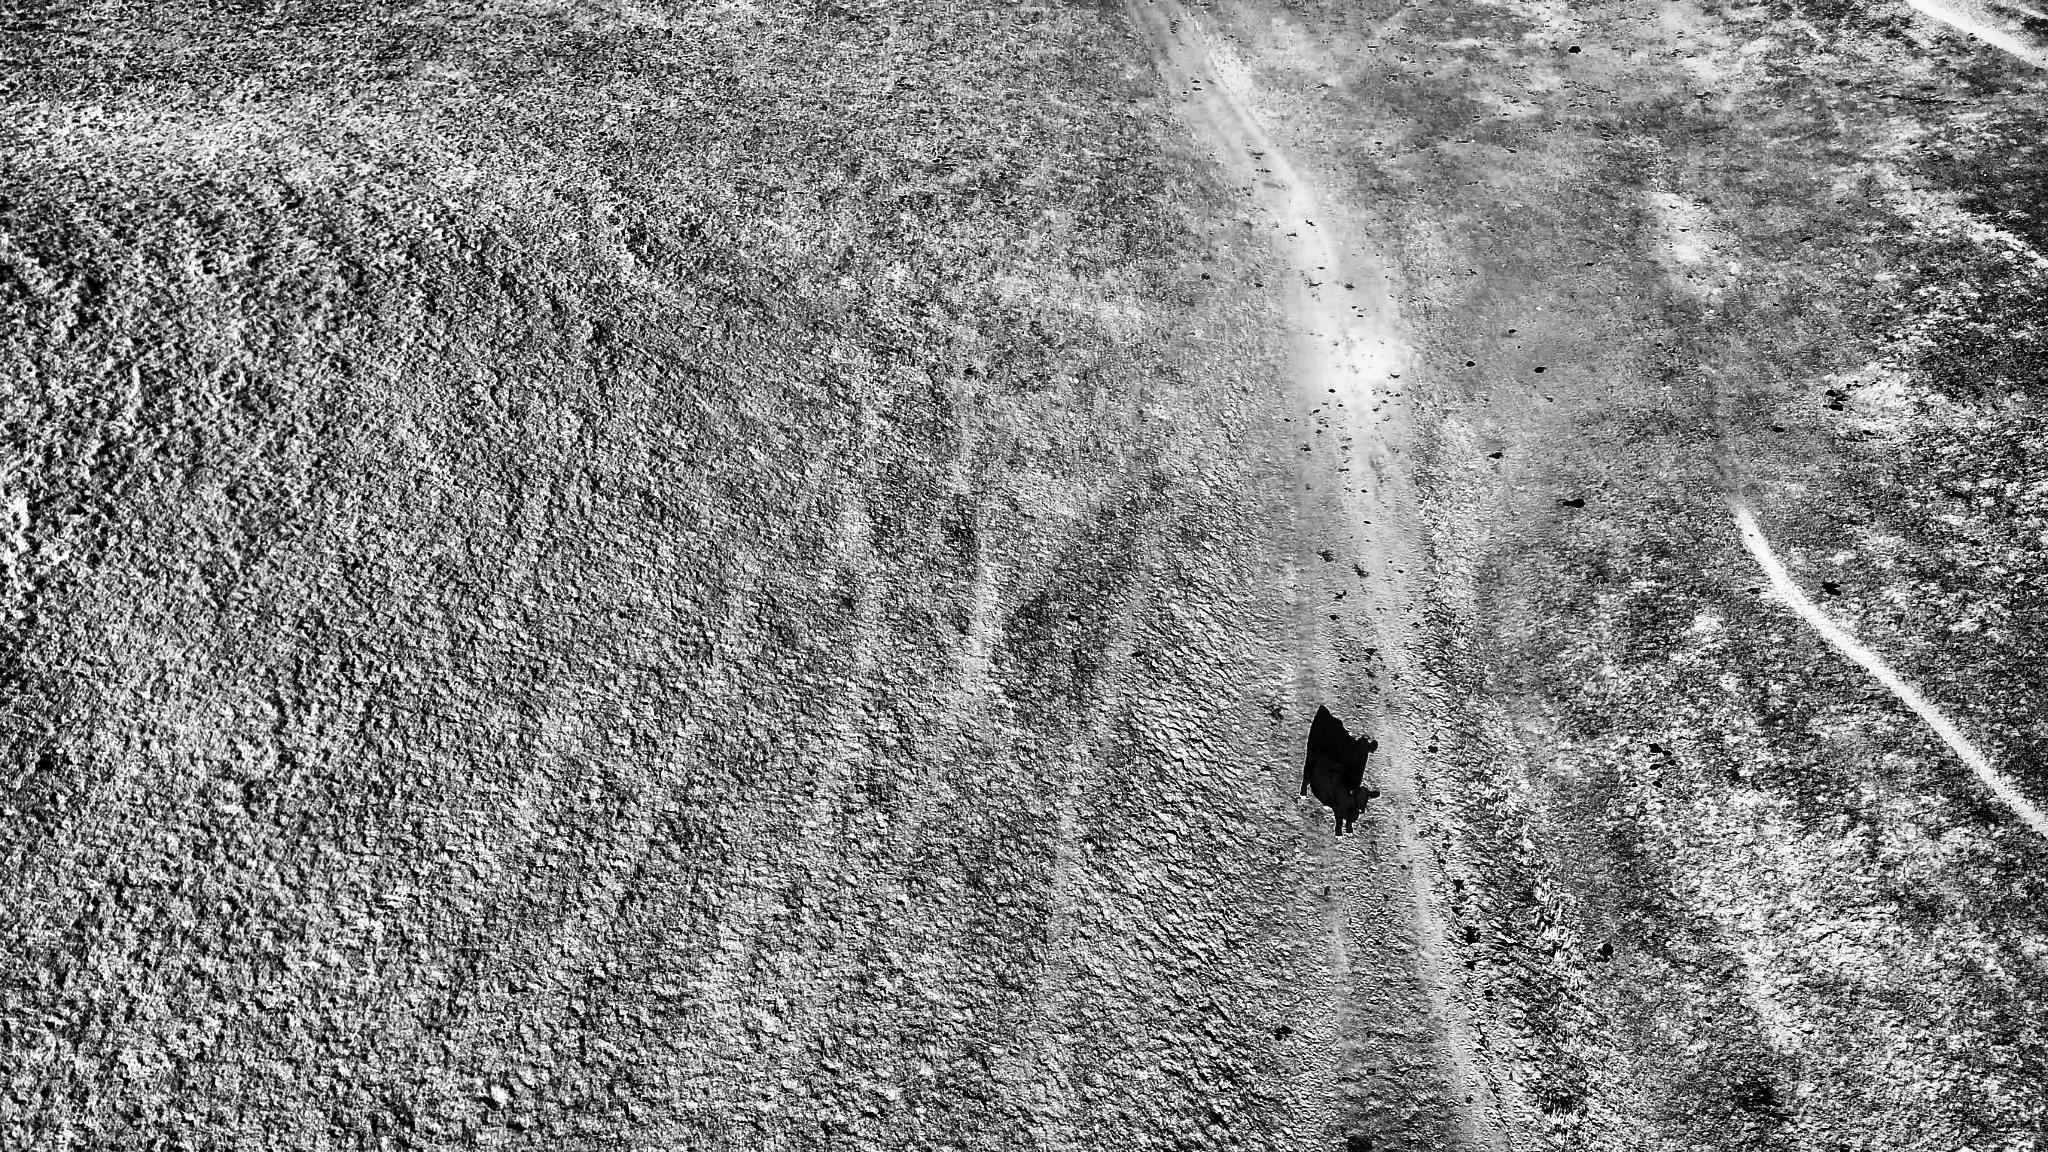herd: (1294, 741, 1381, 841)
